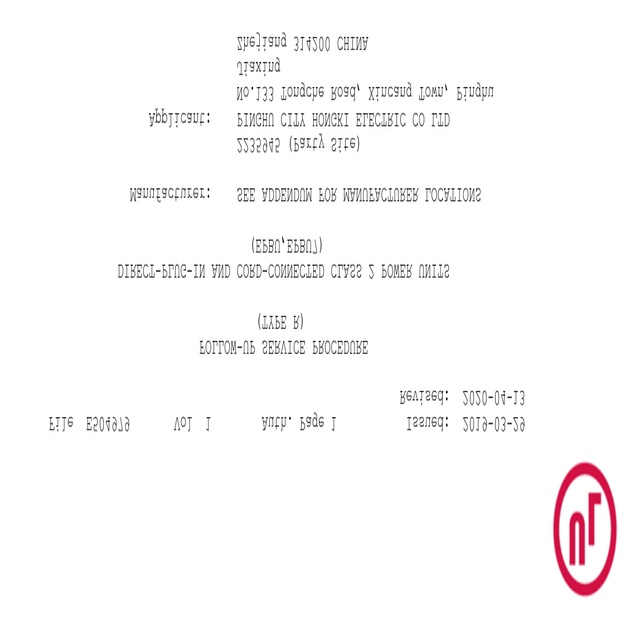ul: (554, 461, 618, 597)
